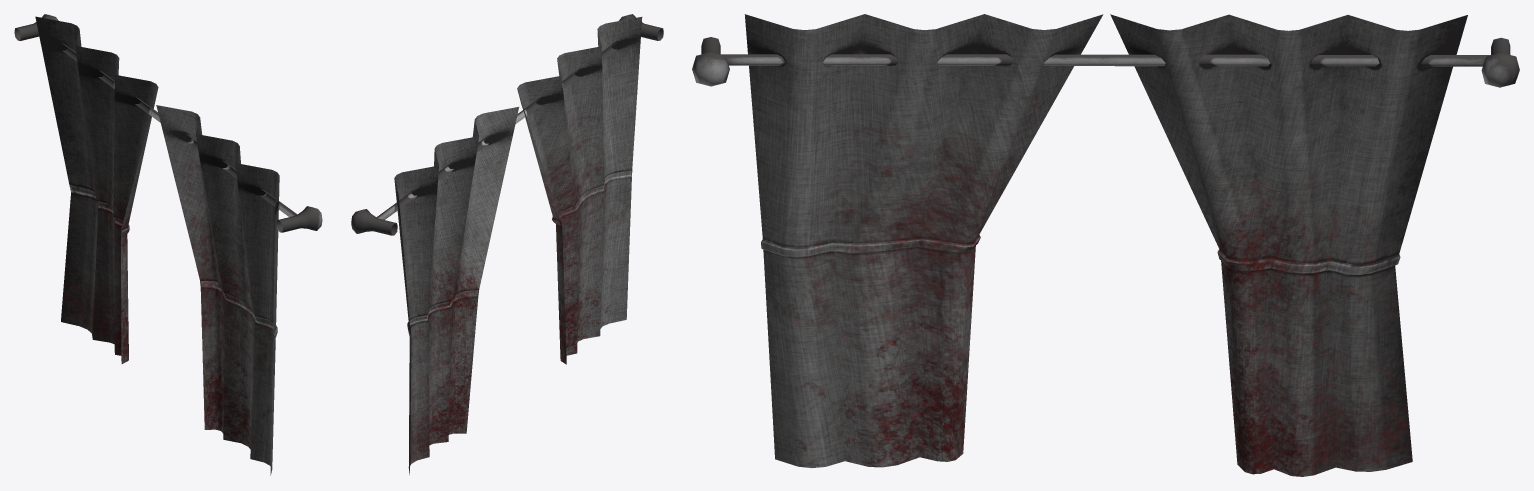
The model's file is dirty curtain.fbx.
The picture shows the model from 3 angles, left to right: view 1: azimuth 30°, elevation 25°; view 2: azimuth 150°, elevation 25°; view 3: azimuth 270°, elevation 25°; orthographic projection. The views are drawn at different scales.
Visible parts, largest first — view 1: dirty curtain; view 2: dirty curtain; view 3: dirty curtain.
Boxes of the visible parts, <box> form: dirty curtain: <box>14,14,322,475</box>; dirty curtain: <box>351,14,663,474</box>; dirty curtain: <box>692,14,1519,476</box>.
Size of the model in its own units: 0.233 by 1.6 by 2.71.
